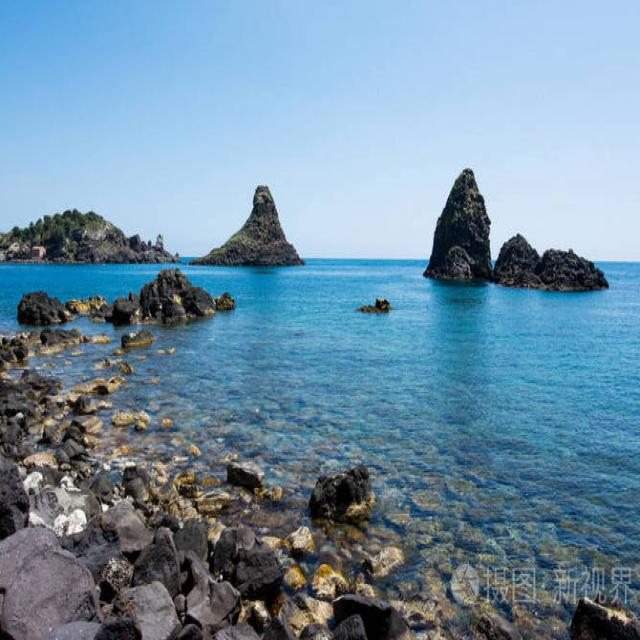reef: (421, 164, 613, 302), (196, 176, 301, 268)
